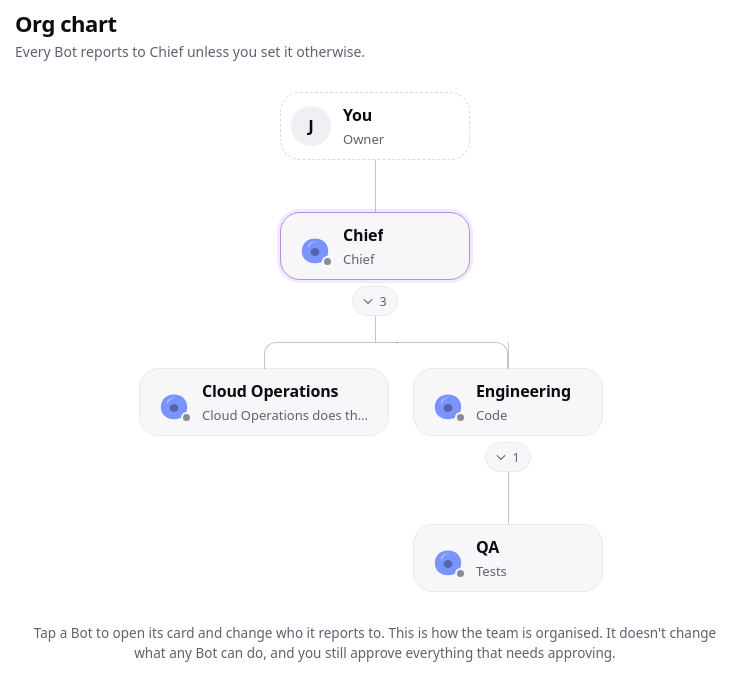
it: OrgChart › folds a team away and counts everyone under it
The width and height of the screenshot is (733, 679).
Click the button named "Hide the 3 Bots under Chief".
click(375, 301)  # box [352, 286, 398, 316]
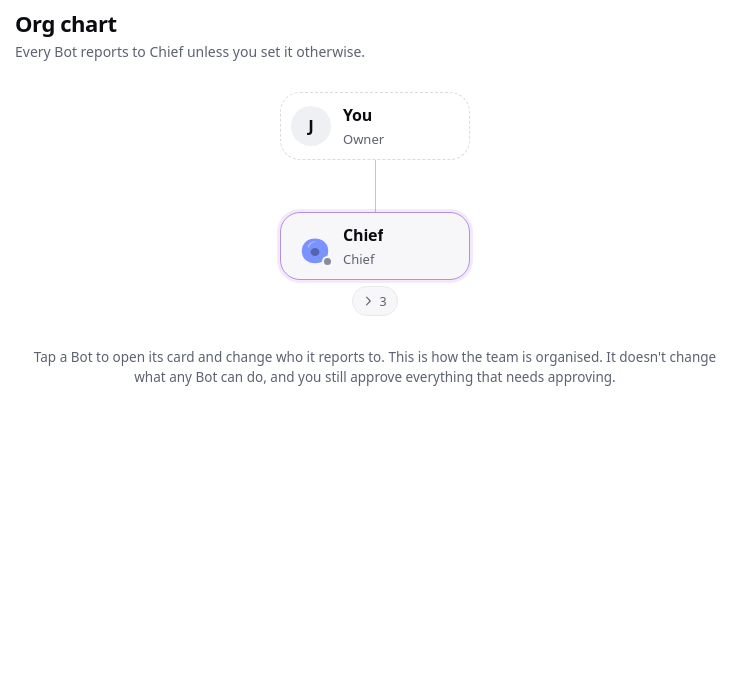
Now the button "Engineering" is gone
